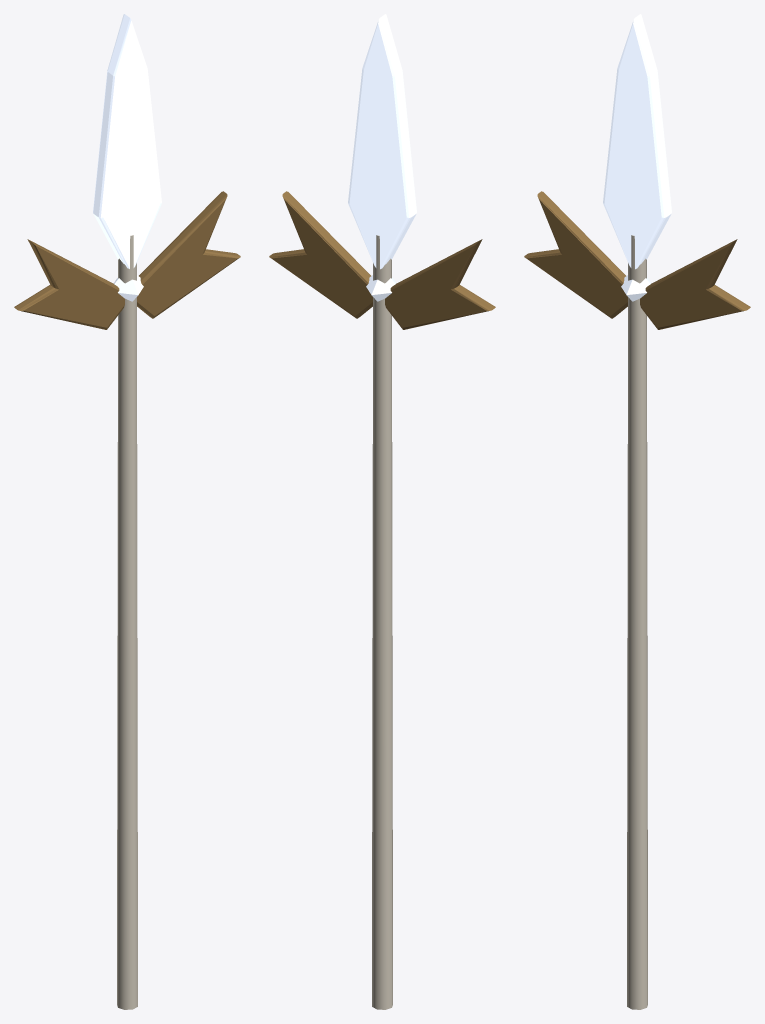
The model's file is spear_f3_e15712d7.glb.
3 views of the same model, side by side, from view 1: azimuth 30°, elevation 25°; view 2: azimuth 150°, elevation 25°; view 3: azimuth 330°, elevation 25° (orthographic).
Visible parts, largest first — view 1: m0_ow80_, m1_, m3_ow80_; view 2: m0_ow80_, m1_, m3_ow80_; view 3: m0_ow80_, m1_, m3_ow80_.
Part boxes in pixels (<box>): m0_ow80_: <box>117,235,137,1009</box>; m1_: <box>93,14,161,268</box>; m3_ow80_: <box>14,191,240,329</box>; m0_ow80_: <box>372,235,392,1009</box>; m1_: <box>348,14,416,269</box>; m3_ow80_: <box>269,191,495,329</box>; m0_ow80_: <box>627,235,647,1009</box>; m1_: <box>603,14,671,269</box>; m3_ow80_: <box>524,191,750,329</box>.
Bounding box in the file's own units: 0.9339 × 3.97 × 0.16.
